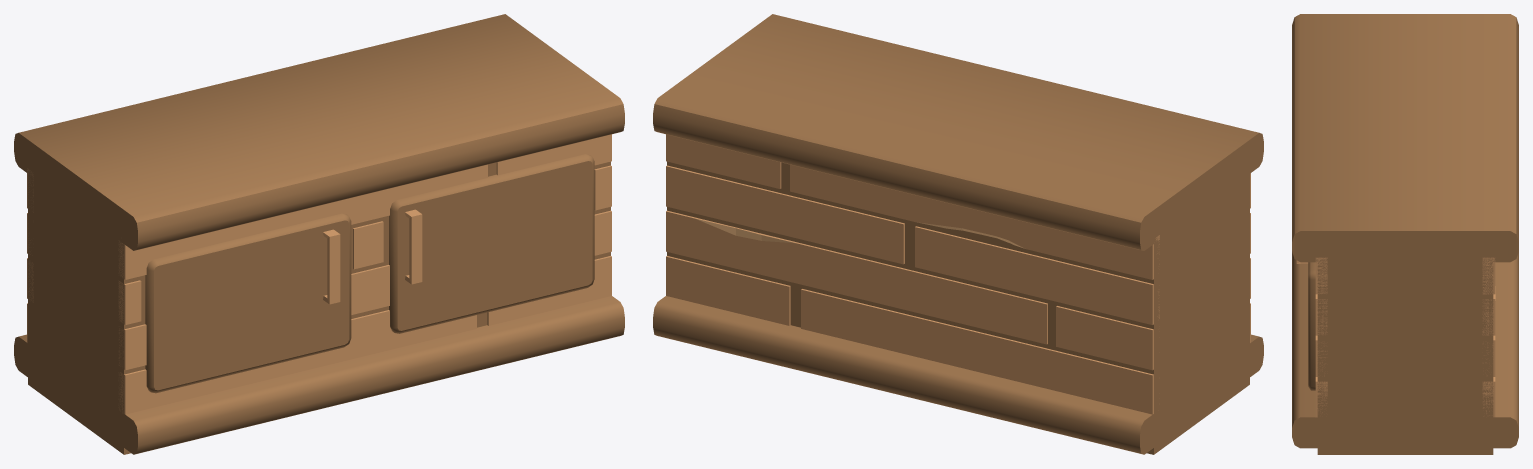
The model's file is quaternius-sushi-restaurant-environment-counter-doors.glb.
3 renders of one model, left to right at view 1: azimuth 30°, elevation 25°; view 2: azimuth 150°, elevation 25°; view 3: azimuth 270°, elevation 25°, orthographic. The views are drawn at different scales.
Parts seen in each view (by area): view 1: Environment_Counter_Doors; view 2: Environment_Counter_Doors; view 3: Environment_Counter_Doors.
Boxes of the visible parts, x1,y1,x2,y2 form: Environment_Counter_Doors: (14, 14, 624, 454); Environment_Counter_Doors: (653, 14, 1263, 454); Environment_Counter_Doors: (1292, 14, 1518, 454).
Bounding box in the file's own units: 4 × 1.92 × 1.77.
1 material, 1 textured.
